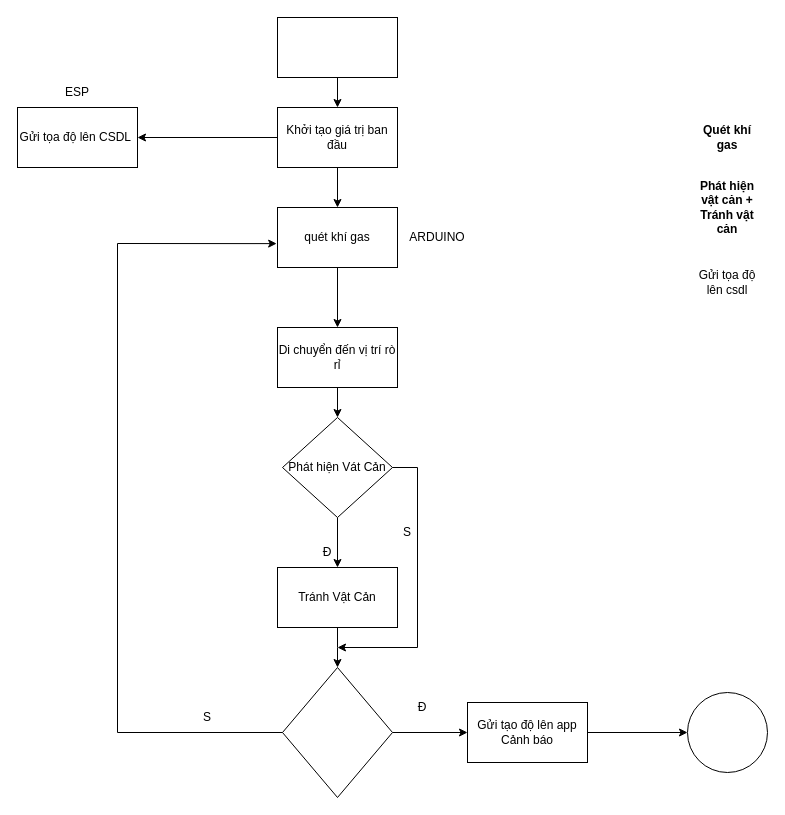
Image size: 785x815. Some labels were removed from this diagram. Each missing label, with the centre of its shape:
Begin: the point at 337,47
END: the point at 727,732
Đích: the point at 337,732
